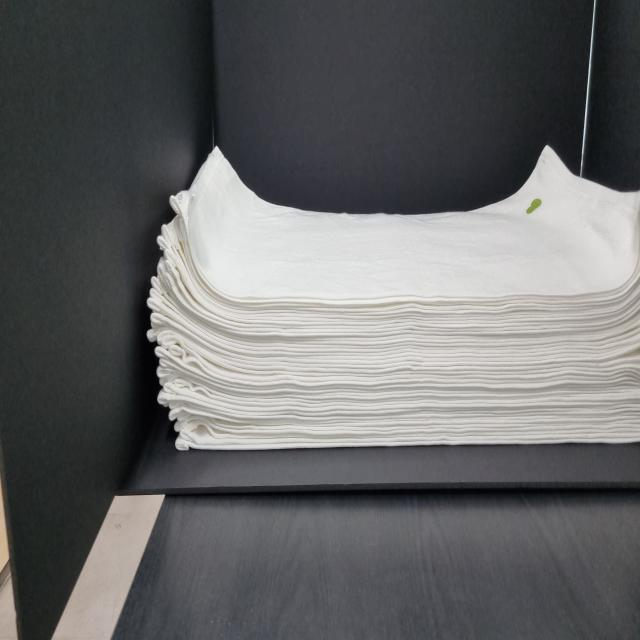not_50count_towel: (132, 133, 640, 457)
